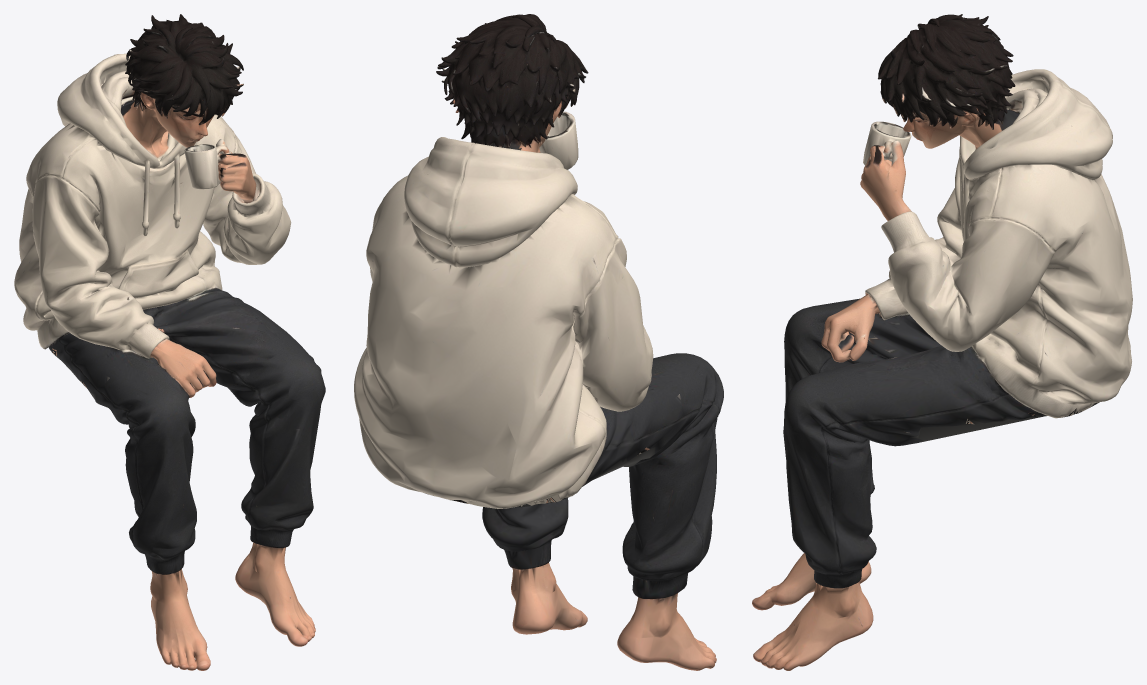
Rendered from coffee.glb.
3 renders of one model, left to right at view 1: azimuth 30°, elevation 25°; view 2: azimuth 150°, elevation 25°; view 3: azimuth 270°, elevation 25°, orthographic. The views are drawn at different scales.
Parts seen in each view (by area): view 1: CH_MorningCoffee; view 2: CH_MorningCoffee; view 3: CH_MorningCoffee.
Boxes of the visible parts, x1,y1,x2,y2 form: CH_MorningCoffee: (14,14,325,670); CH_MorningCoffee: (354,14,723,670); CH_MorningCoffee: (752,14,1132,670).
Bounding box in the file's own units: 0.527 × 1.25 × 0.6932.
2 materials, 1 textured.
